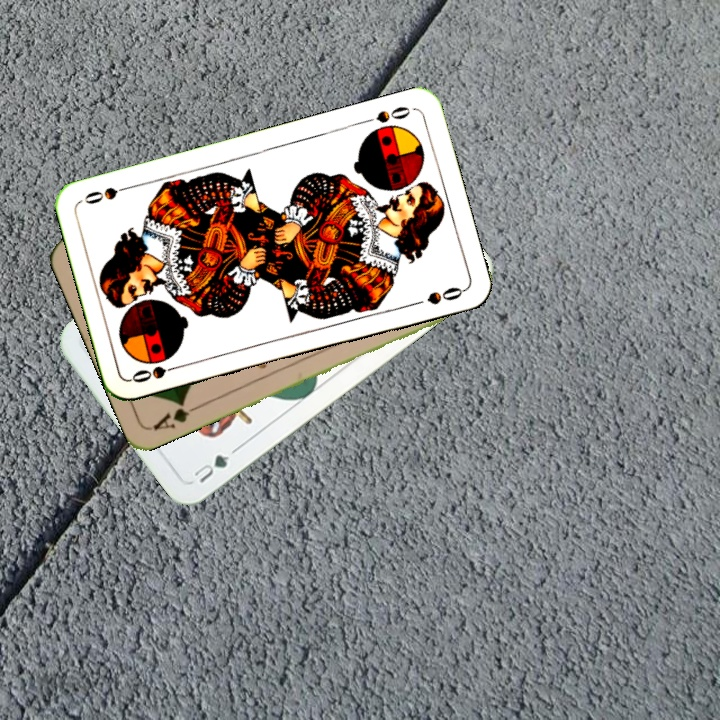GA: (149, 397, 204, 433)
GU: (189, 450, 232, 486)
SO: (127, 356, 186, 386), (358, 102, 413, 127)
